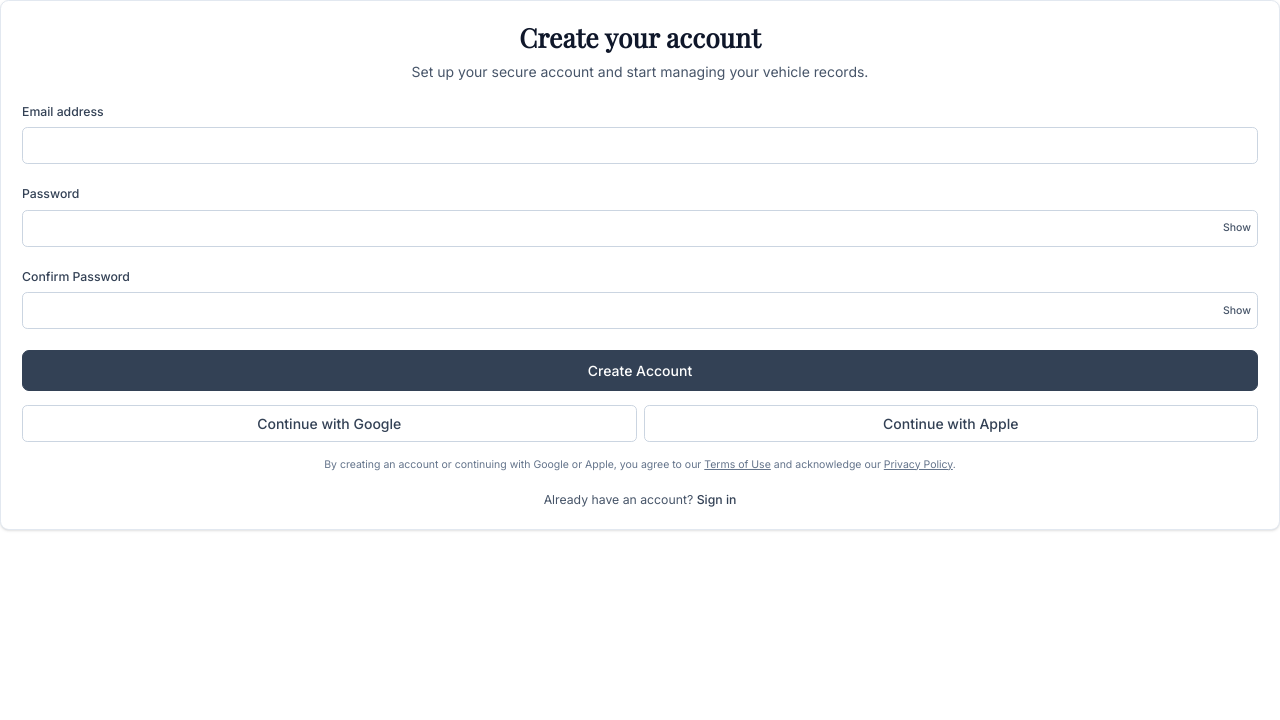
Test case: SignUp page › disables the submit button while busy
Type "x@x.com" into the field labelled "Email address" at (640, 146), box [22,127,1258,164]
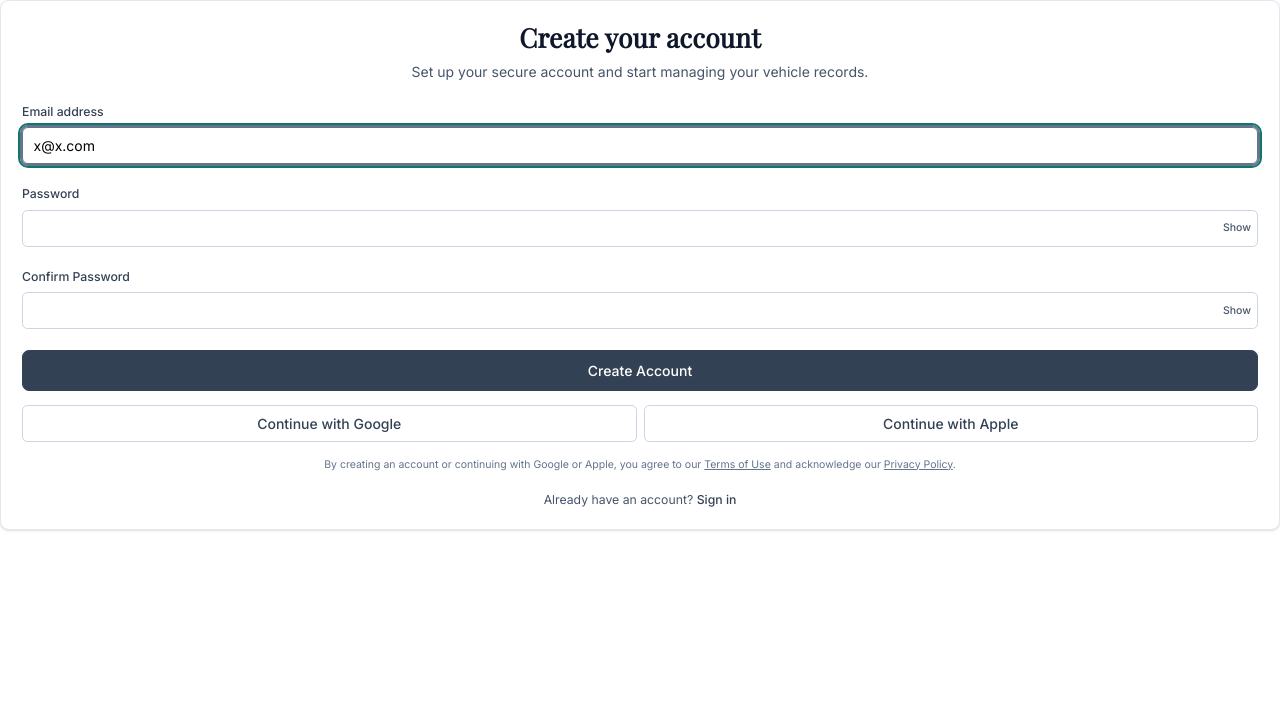
Type "abc" into the password field labelled "Password" at (640, 228), box [22,210,1258,246]
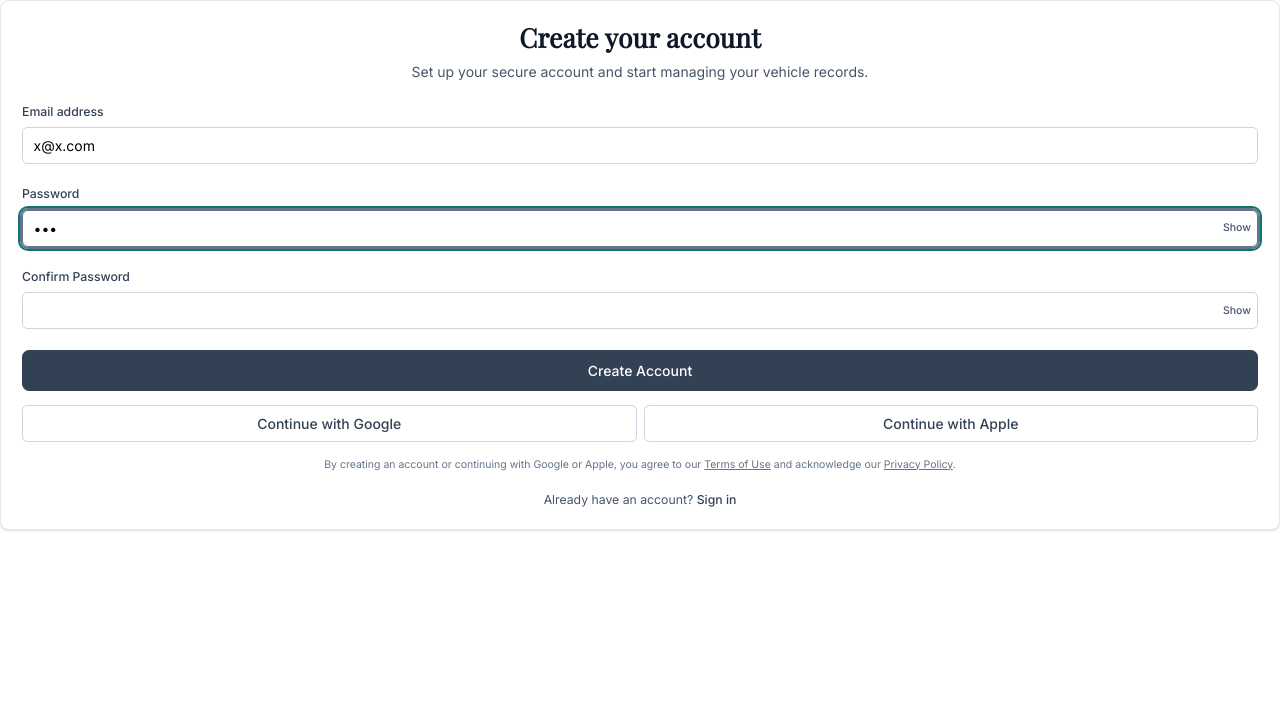
Type "abc" into the password field labelled "Confirm Password" at (640, 310), box [22,292,1258,329]
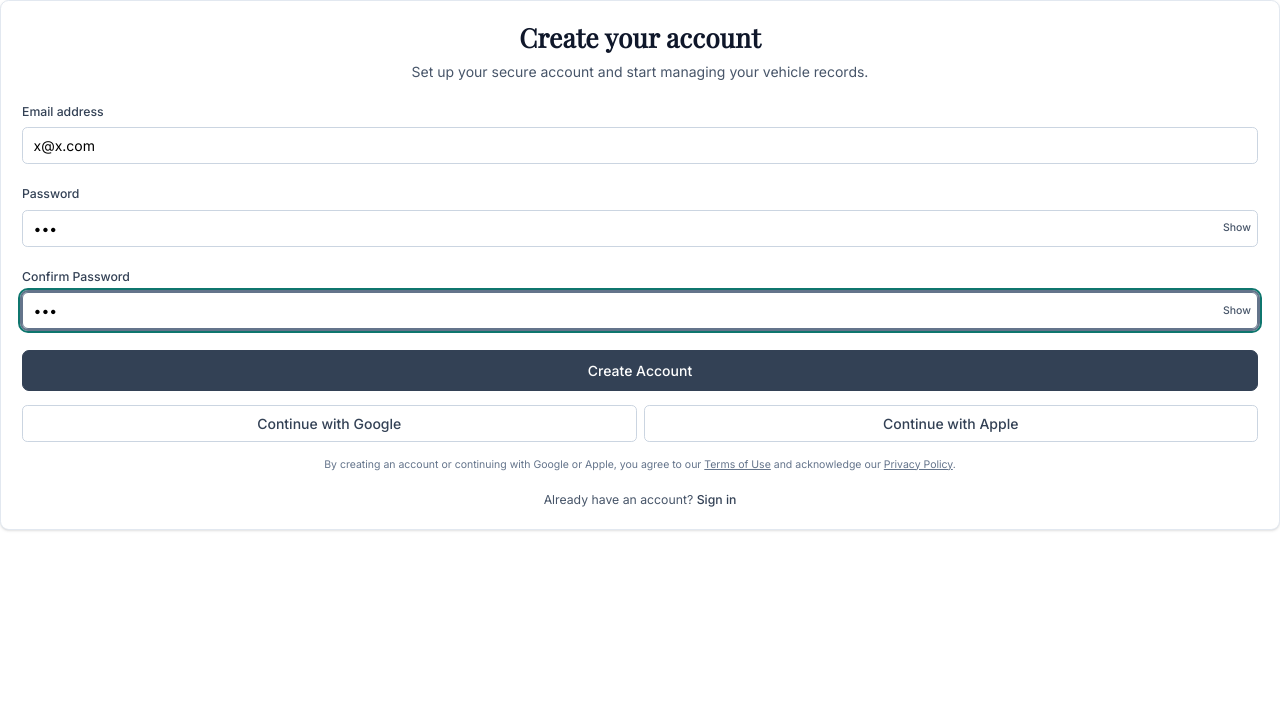
Click the button "Create Account" at (640, 370), box [22,350,1258,390]
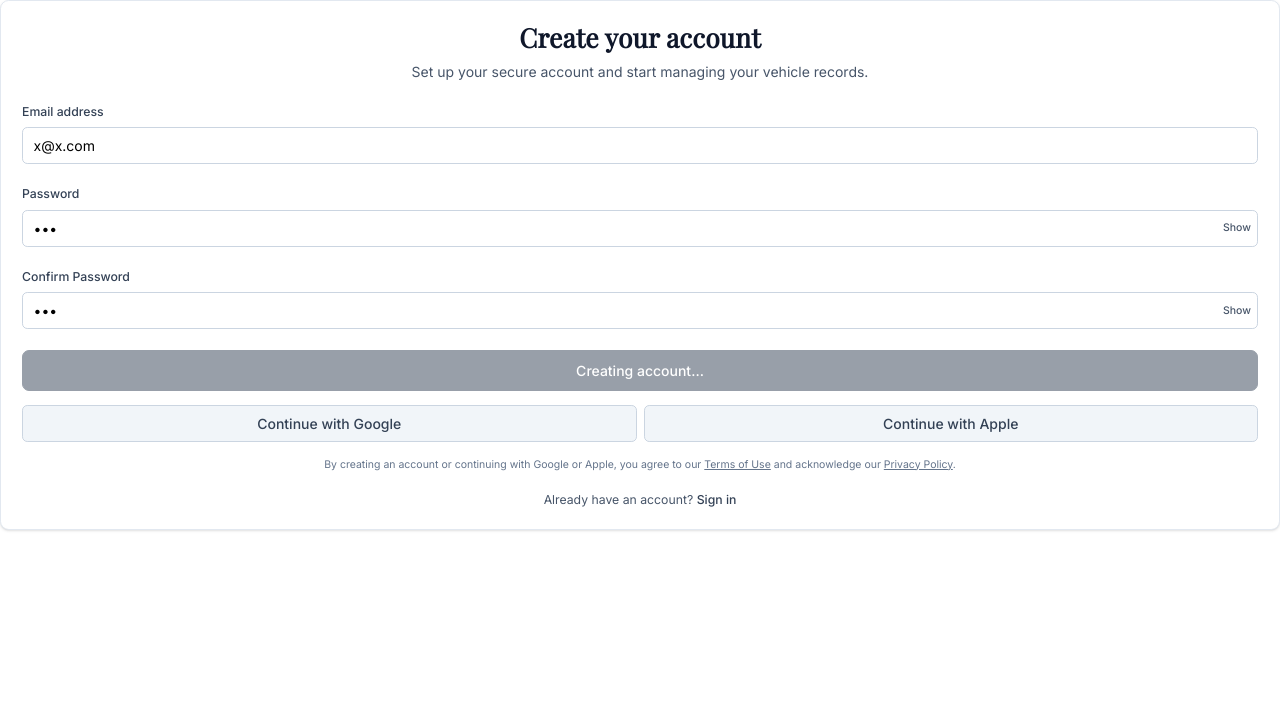
Now the button "Creating account…" is disabled, box [22,350,1258,390]
